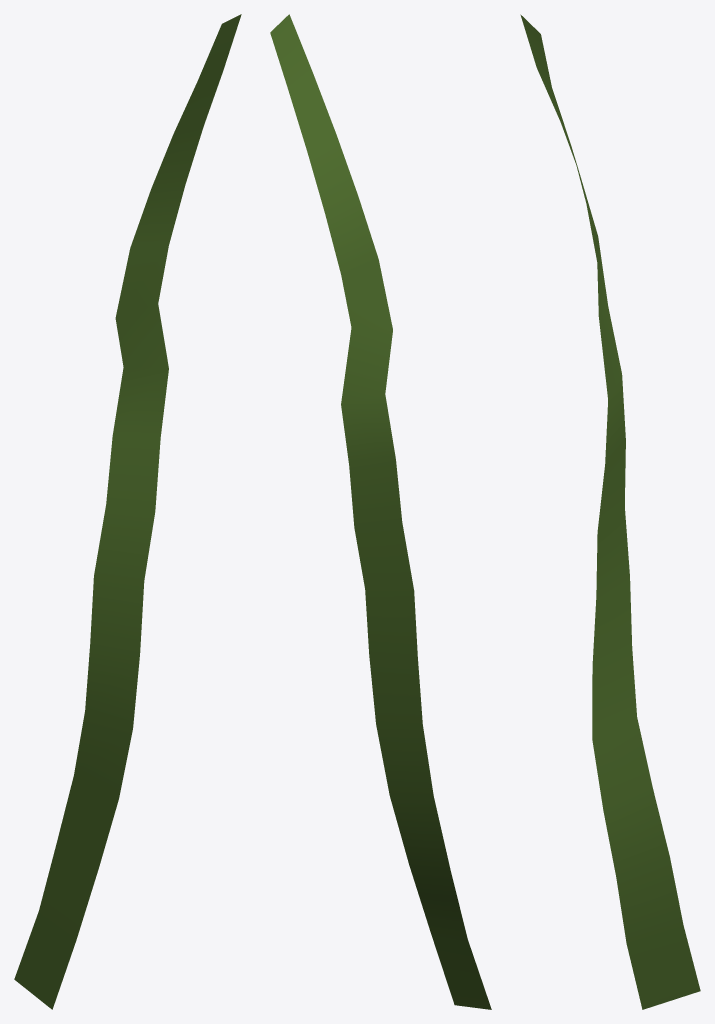
Rendered from plant_swamp_kelp_long_solo_W.fbx.
The picture shows the model from 3 angles, left to right: view 1: azimuth 30°, elevation 25°; view 2: azimuth 210°, elevation 25°; view 3: azimuth 270°, elevation 25°; orthographic projection. The views are drawn at different scales.
Parts seen in each view (by area): view 1: plant_swamp_kelp_long_solo_W; view 2: plant_swamp_kelp_long_solo_W; view 3: plant_swamp_kelp_long_solo_W.
Part boxes in pixels (box(x1,y1,x2,y2)): plant_swamp_kelp_long_solo_W: box(14, 14, 241, 1009); plant_swamp_kelp_long_solo_W: box(270, 14, 491, 1009); plant_swamp_kelp_long_solo_W: box(520, 14, 700, 1009).
Bounding box in the file's own units: 32.51 × 205 × 31.89.
